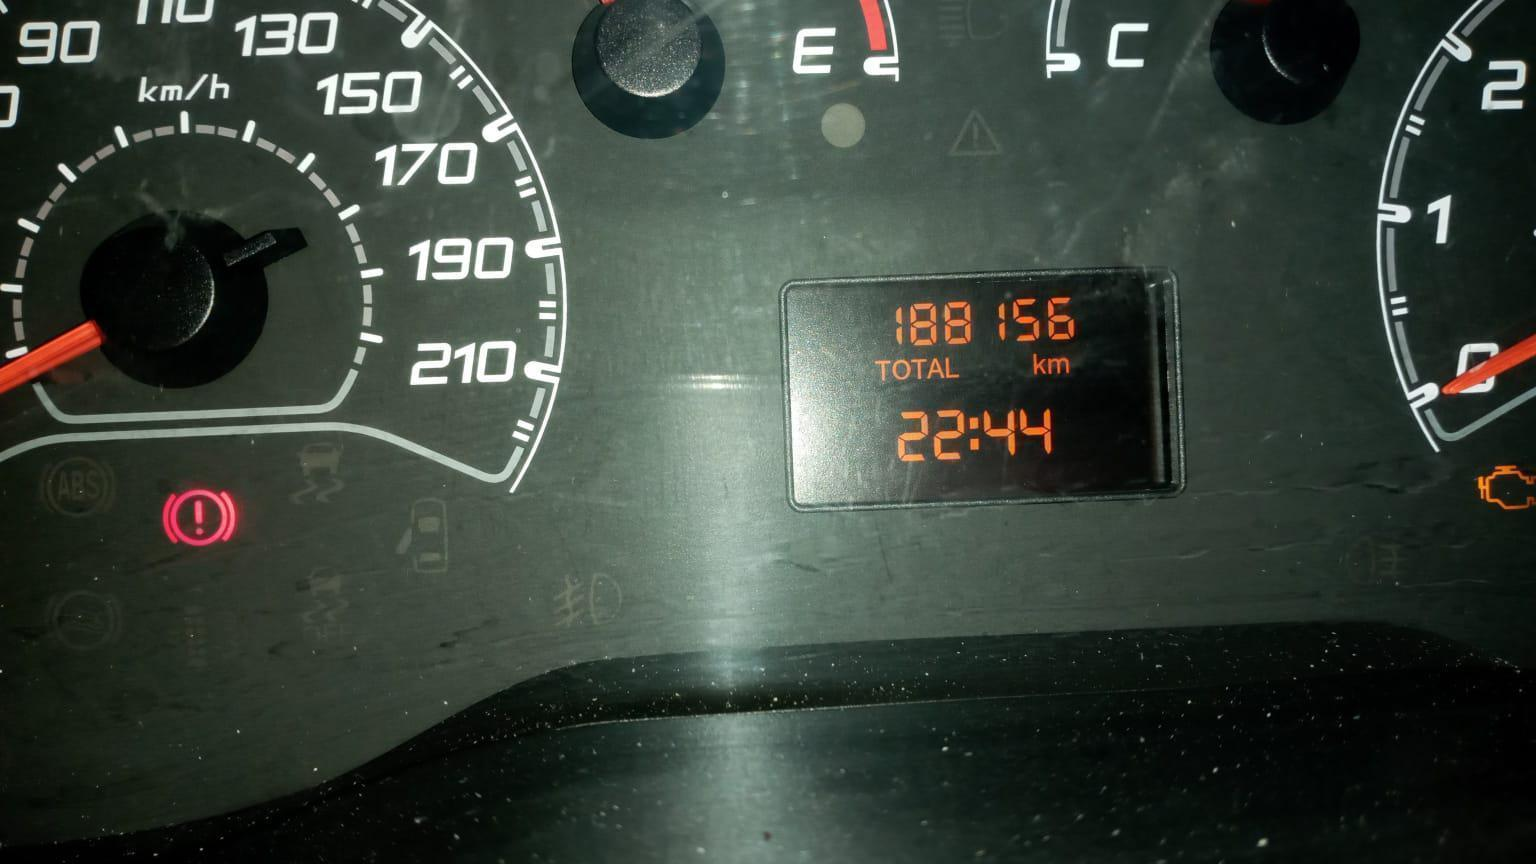1: (892, 303, 904, 346), (995, 301, 1006, 341)
2: (895, 410, 929, 462), (933, 408, 966, 461), (942, 300, 972, 345), (909, 302, 938, 346)
4: (1018, 407, 1054, 455), (983, 408, 1017, 457)
5: (1011, 296, 1040, 341)
6: (1047, 296, 1076, 340)
X: (966, 414, 981, 452), (925, 357, 945, 381), (1047, 356, 1072, 375), (873, 359, 892, 382), (892, 359, 911, 381), (910, 358, 928, 381), (944, 356, 960, 379), (1031, 352, 1047, 375)
odometer: (774, 261, 1188, 516)
